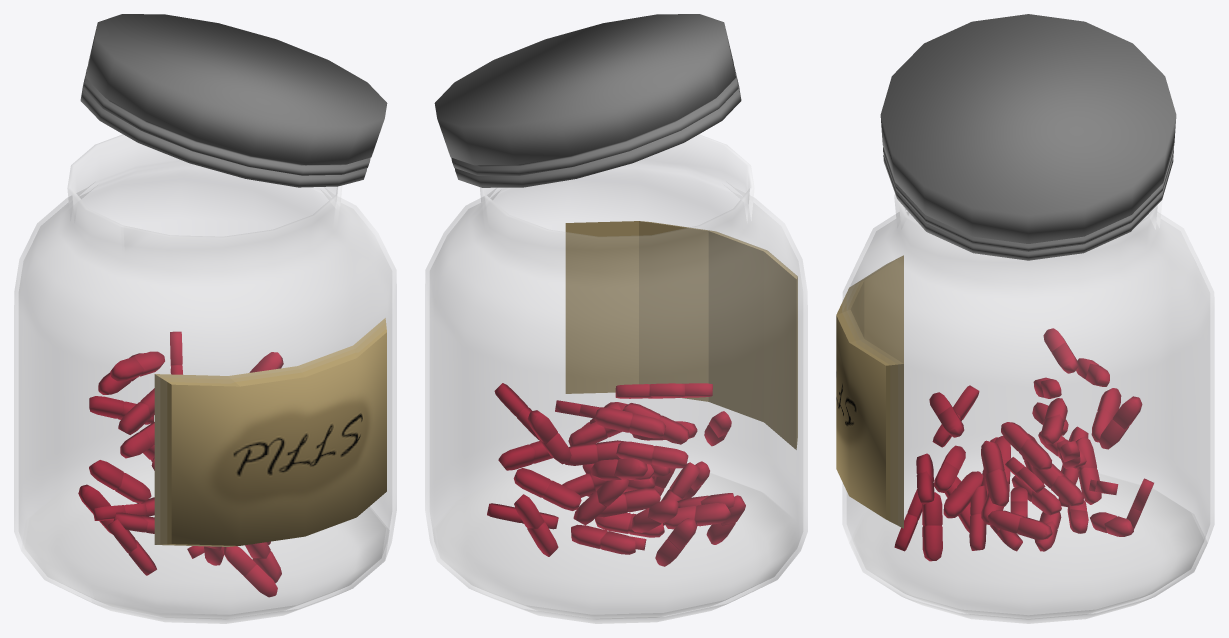
The model's file is pote_remedios.glb.
3 views of the same model, side by side, from view 1: azimuth 30°, elevation 25°; view 2: azimuth 150°, elevation 25°; view 3: azimuth 270°, elevation 25° (orthographic). The views are drawn at different scales.
Parts seen in each view (by area): view 1: PoteRemedios; view 2: PoteRemedios; view 3: PoteRemedios.
Part boxes in pixels (x1=…): PoteRemedios: x1=14, y1=14, x2=396, y2=623; PoteRemedios: x1=425, y1=14, x2=807, y2=623; PoteRemedios: x1=836, y1=14, x2=1214, y2=623.
Size of the model in its own units: 0.1032 by 0.1541 by 0.1049.
3 materials, 3 textured.
